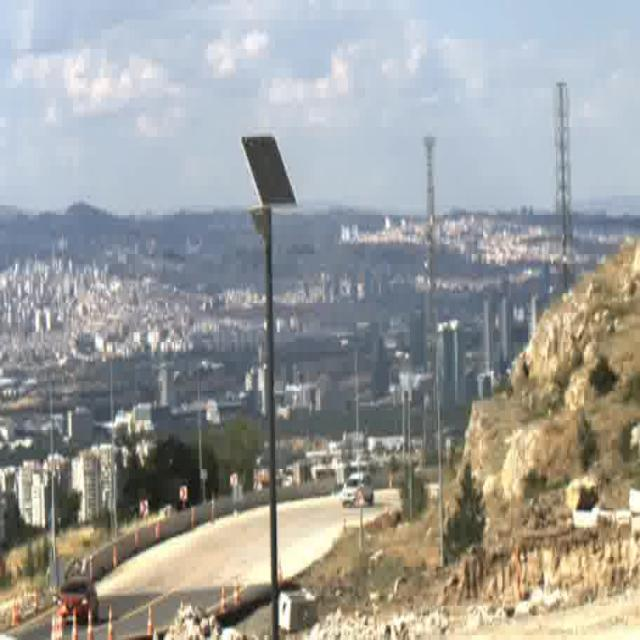Car: (56, 575, 100, 622), (342, 475, 374, 508)
